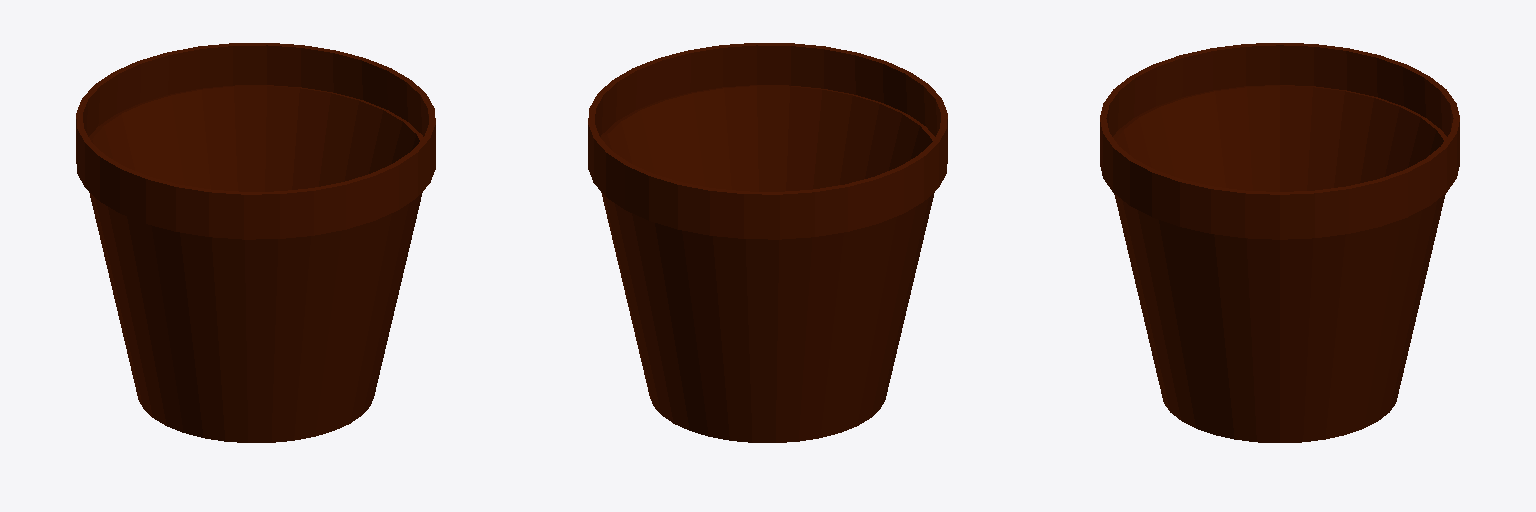
Rendered from Pot.obj.
3 renders of one model, left to right at view 1: azimuth 30°, elevation 25°; view 2: azimuth 150°, elevation 25°; view 3: azimuth 270°, elevation 25°, orthographic.
Visible parts, largest first — view 1: Cylinder; view 2: Cylinder; view 3: Cylinder.
Part boxes in pixels (x1,y1,x2,y2): Cylinder: (76, 43, 435, 442); Cylinder: (588, 43, 947, 442); Cylinder: (1100, 43, 1459, 442).
Bounding box in the file's own units: 0.2835 × 0.2382 × 0.2835.